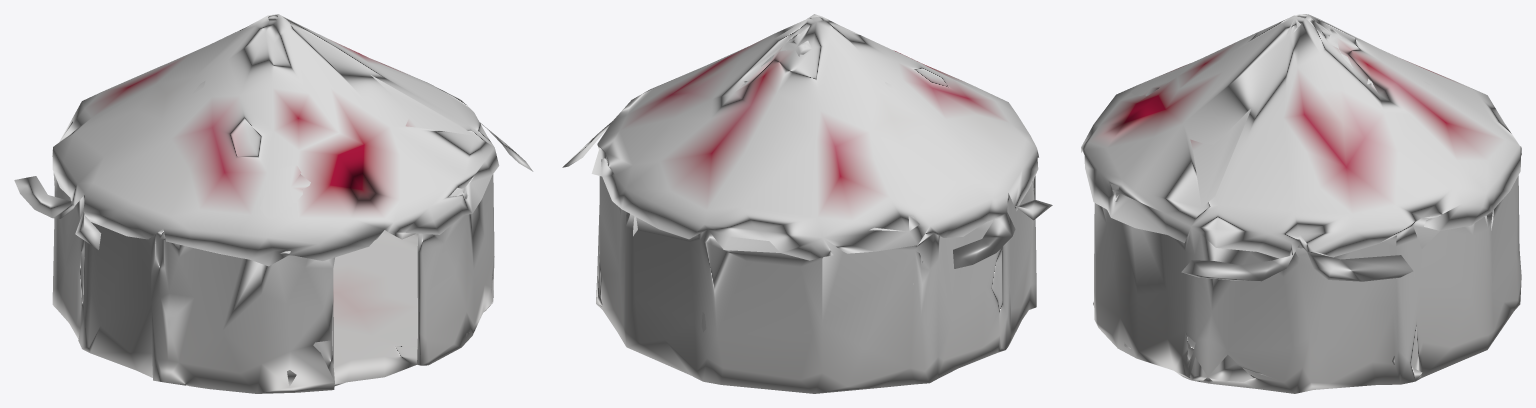
Rendered from gen3d-medical-tent-lod0.glb.
3 renders of one model, left to right at view 1: azimuth 30°, elevation 25°; view 2: azimuth 150°, elevation 25°; view 3: azimuth 270°, elevation 25°, orthographic.
Parts seen in each view (by area): view 1: part_0; view 2: part_0; view 3: part_0.
Boxes of the visible parts, left/top/right/bottom form: part_0: left=14, top=14, right=533, bottom=393; part_0: left=562, top=14, right=1052, bottom=393; part_0: left=1081, top=14, right=1521, bottom=393.
Bounding box in the file's own units: 1.53 × 1 × 1.39.
